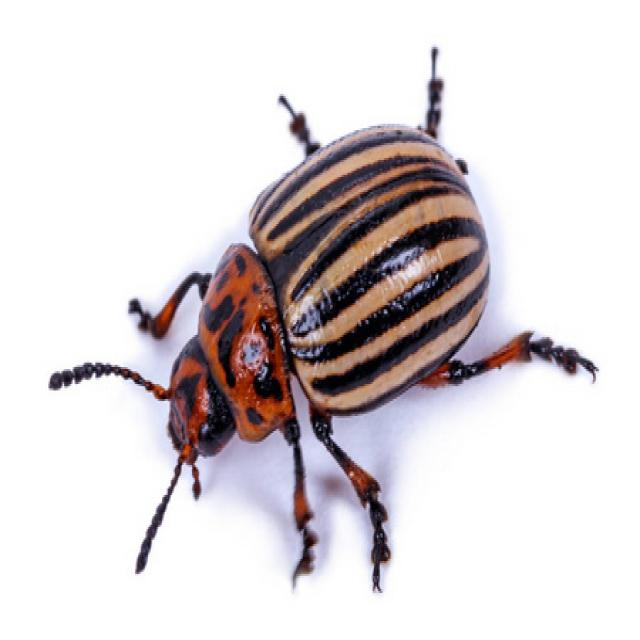ShuCaiHuaBanChong-Grown-: (112, 109, 555, 505)
